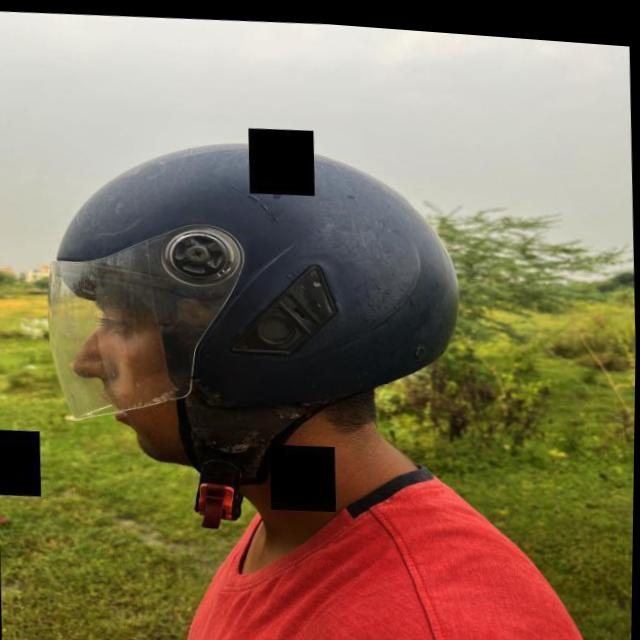helmet: (41, 118, 467, 546)
